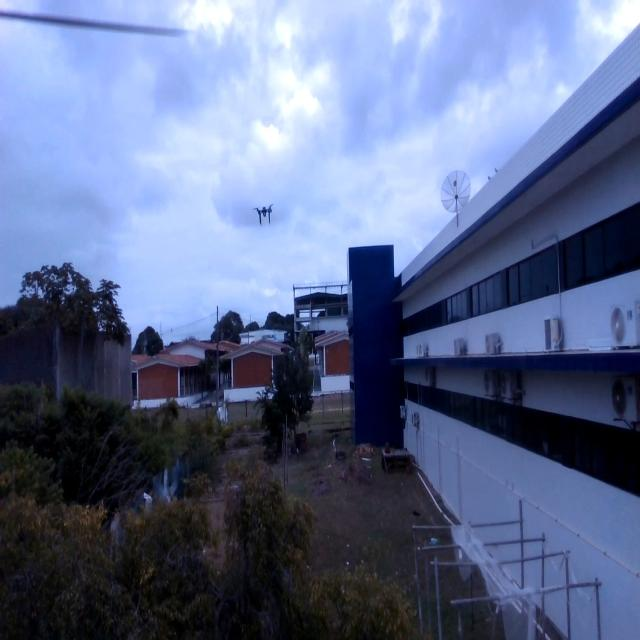-uav-: (248, 199, 278, 237)
